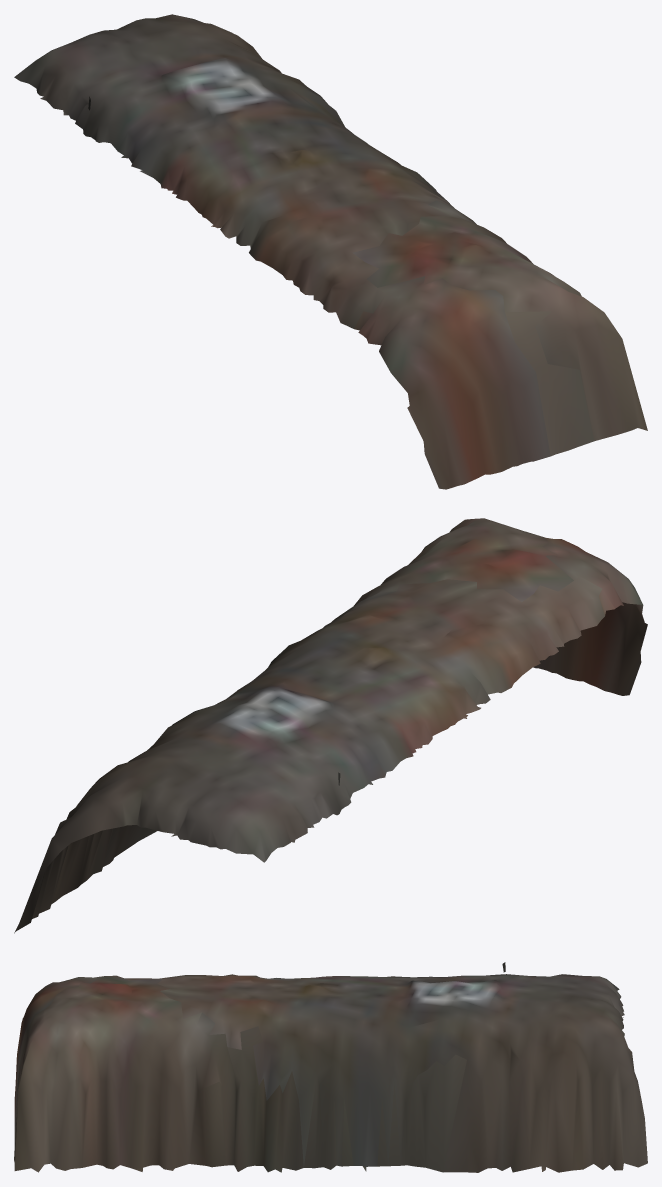
The model's file is run4_p2_c6_1.glb.
The picture shows the model from 3 angles, top to bottom: view 1: azimuth 30°, elevation 25°; view 2: azimuth 150°, elevation 25°; view 3: azimuth 270°, elevation 25°; orthographic projection. The views are drawn at different scales.
Visible parts, largest first — view 1: run4_p2_straight_c6_1; view 2: run4_p2_straight_c6_1; view 3: run4_p2_straight_c6_1.
Part boxes in pixels (bbox=[...]): run4_p2_straight_c6_1: bbox=[14, 14, 647, 489]; run4_p2_straight_c6_1: bbox=[14, 518, 647, 933]; run4_p2_straight_c6_1: bbox=[14, 962, 647, 1172].
Bounding box in the file's own units: 3.71 × 2.59 × 10.81.
1 material, 1 textured.
